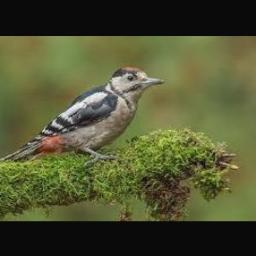Woodpecker: (0, 67, 164, 163)
